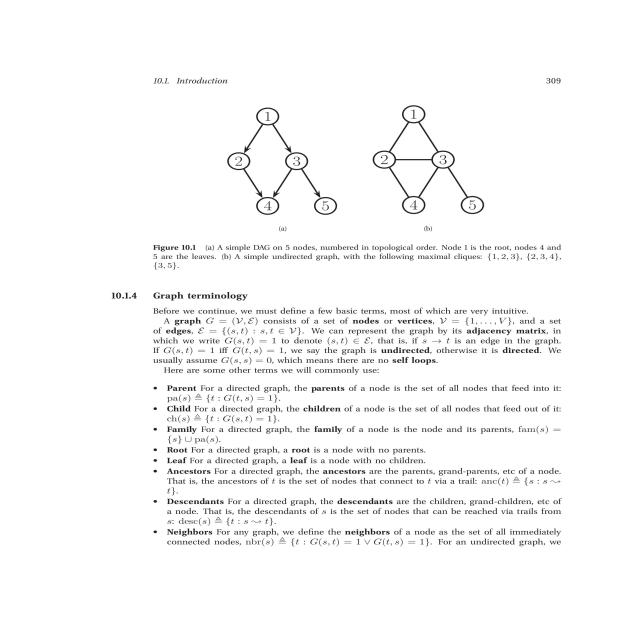diagram: (93, 100, 635, 279)
